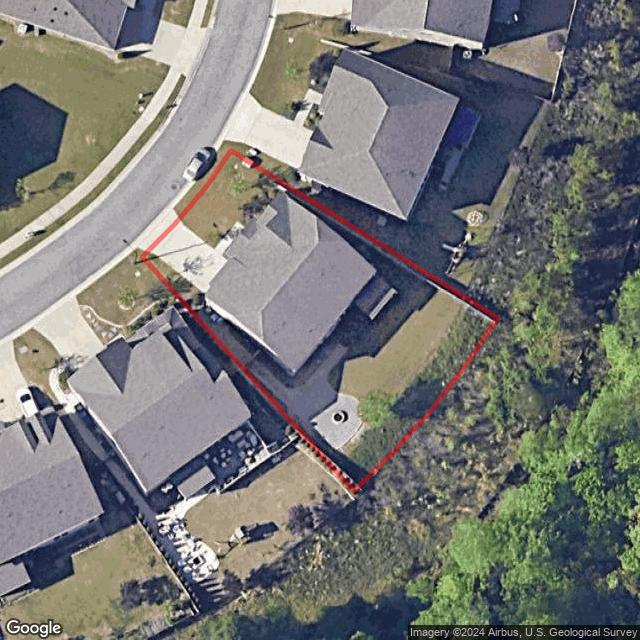Driveway: (147, 218, 228, 294)
Extra-Driveway: (139, 206, 179, 250)
Extra-Lawn: (174, 144, 232, 220), (136, 248, 149, 257)
House: (205, 190, 379, 375)
Lawn: (142, 150, 498, 493)
Other: (177, 293, 361, 454), (352, 272, 396, 321)
Sidewalk: (216, 223, 245, 255)
